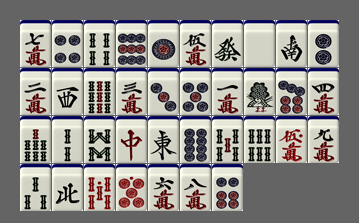0m: (276, 116, 307, 163)
0p: (116, 164, 147, 211)
0s: (84, 164, 115, 211)
1m: (212, 68, 243, 115)
1p: (148, 20, 179, 67)
1s: (244, 68, 275, 115)
1z: (148, 116, 179, 163)
2m: (20, 68, 51, 115)
2p: (308, 20, 339, 67)
2s: (52, 116, 83, 163)
2z: (276, 20, 307, 67)
3m: (116, 68, 147, 115)
3p: (148, 68, 179, 115)
3s: (20, 164, 51, 211)
3z: (52, 68, 83, 115)
4m: (308, 68, 339, 115)
4p: (52, 20, 83, 67)
4s: (84, 20, 115, 67)
4z: (52, 164, 83, 211)
5m: (180, 20, 211, 67)
5p: (180, 68, 211, 115)
5s: (212, 116, 243, 163)
5z: (244, 20, 275, 67)
6m: (148, 164, 179, 211)
6p: (212, 164, 243, 211)
6s: (244, 116, 275, 163)
6z: (212, 20, 243, 67)
7m: (20, 20, 51, 67)
7p: (276, 68, 307, 115)
7s: (20, 116, 51, 163)
7z: (116, 116, 147, 163)
8m: (180, 164, 211, 211)
8p: (180, 116, 211, 163)
8s: (84, 116, 115, 163)
9m: (308, 116, 339, 163)
9p: (116, 20, 147, 67)
9s: (84, 68, 115, 115)
